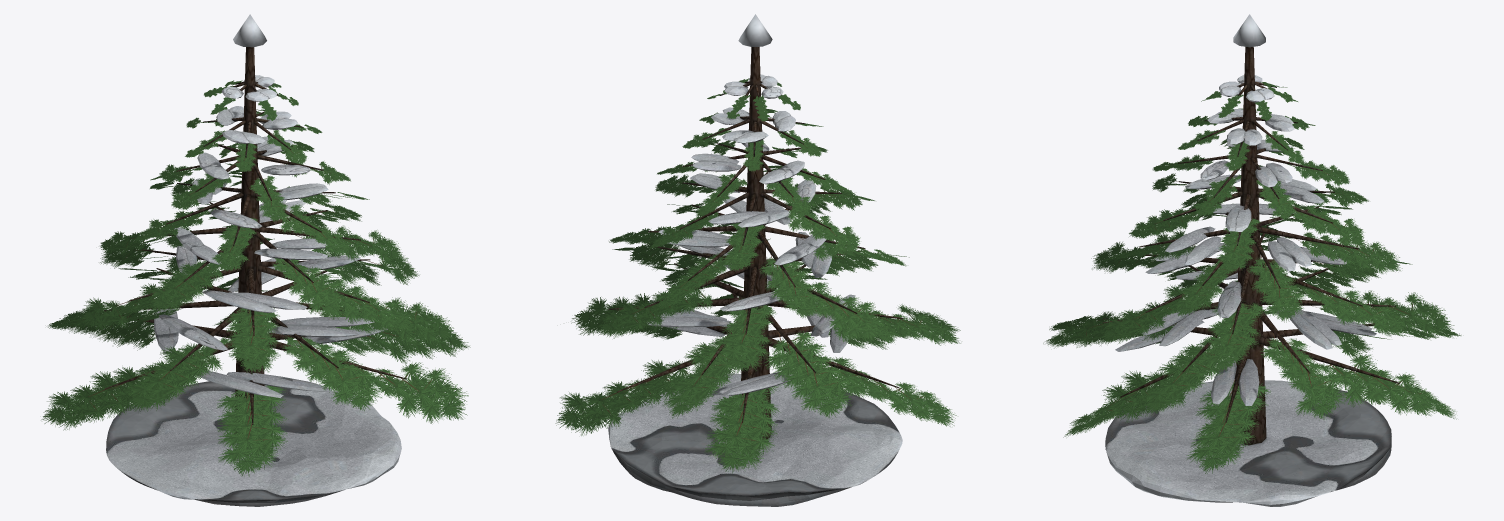
File: geada_arvore_neve_c.glb
3 renders of one model, left to right at view 1: azimuth 30°, elevation 25°; view 2: azimuth 150°, elevation 25°; view 3: azimuth 270°, elevation 25°, orthographic.
Visible parts, largest first — view 1: agulhas, geada_arvore_neve_c_tronco; view 2: agulhas, geada_arvore_neve_c_tronco; view 3: agulhas, geada_arvore_neve_c_tronco.
Part boxes in pixels (x1,y1,x2,y2): agulhas: [41, 80, 470, 476]; geada_arvore_neve_c_tronco: [104, 14, 406, 506]; agulhas: [555, 78, 960, 473]; geada_arvore_neve_c_tronco: [608, 14, 903, 506]; agulhas: [1043, 82, 1461, 473]; geada_arvore_neve_c_tronco: [1102, 14, 1399, 506].
Size of the model in its own units: 8.67 by 8.43 by 8.28.
Materials: 2 (2 with a texture image).
